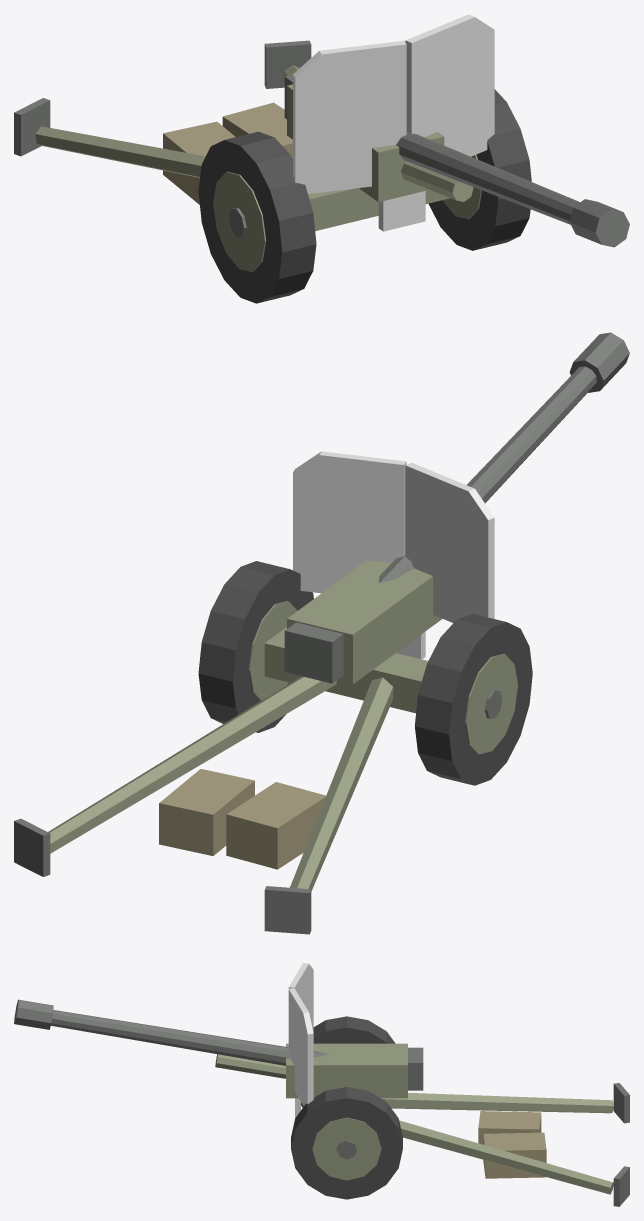
Rendered from civ_unit_artillery.glb.
The picture shows the model from 3 angles, top to bottom: view 1: azimuth 30°, elevation 25°; view 2: azimuth 150°, elevation 25°; view 3: azimuth 270°, elevation 25°; orthographic projection. The views are drawn at different scales.
Visible parts, largest first — view 1: civ_unit_artillery; view 2: civ_unit_artillery; view 3: civ_unit_artillery.
Boxes of the visible parts, box(x1,y1,x2,y2) form: civ_unit_artillery: box(14, 14, 629, 303); civ_unit_artillery: box(14, 332, 629, 934); civ_unit_artillery: box(14, 963, 629, 1206).
Bounding box in the file's own units: 2.24 × 1.85 × 6.05.
